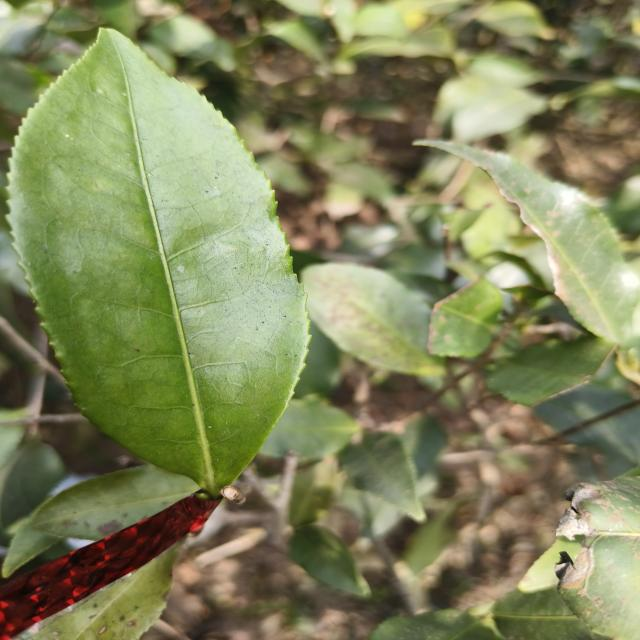Leaf: (8, 29, 308, 492), (414, 140, 640, 344), (13, 543, 181, 640), (300, 262, 444, 375), (556, 476, 640, 640), (32, 465, 197, 540), (486, 337, 612, 405), (339, 432, 425, 521), (260, 398, 358, 459), (428, 278, 502, 357), (290, 524, 370, 596), (493, 588, 596, 640), (452, 89, 546, 142), (369, 609, 498, 640), (401, 415, 446, 479)
